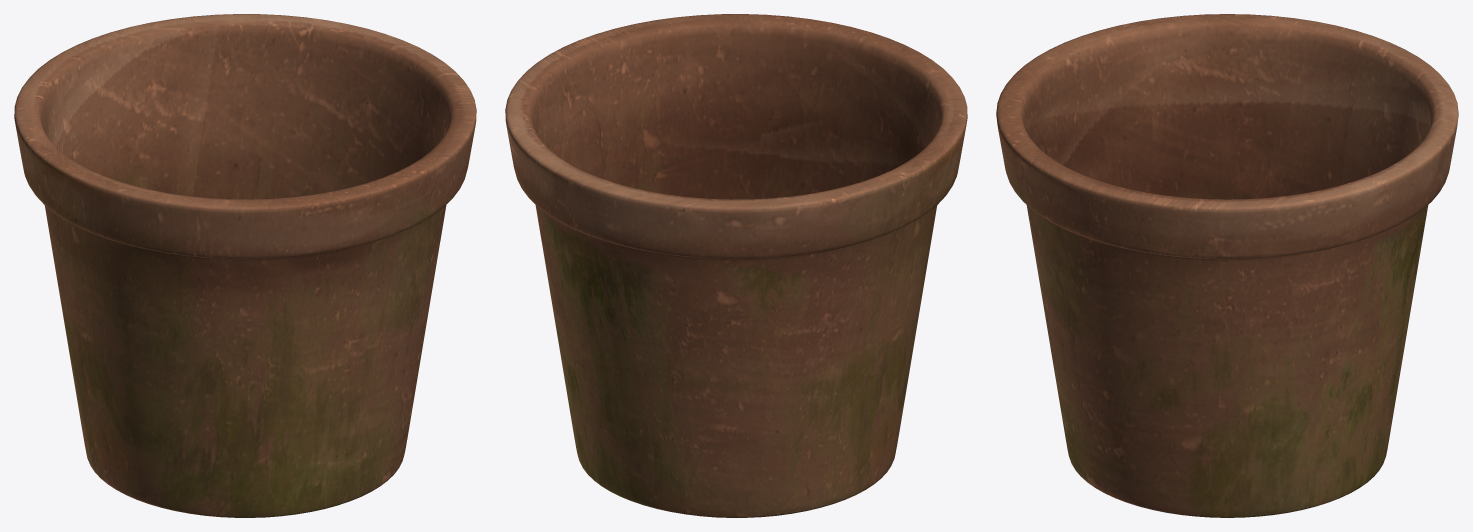
Rendered from Kioypi.fbx.
3 views of the same model, side by side, from view 1: azimuth 30°, elevation 25°; view 2: azimuth 150°, elevation 25°; view 3: azimuth 270°, elevation 25° (orthographic).
Visible parts, largest first — view 1: Cylinder; view 2: Cylinder; view 3: Cylinder.
Boxes of the visible parts, x1=… form: Cylinder: x1=14, y1=14, x2=476, y2=517; Cylinder: x1=505, y1=14, x2=967, y2=517; Cylinder: x1=996, y1=14, x2=1458, y2=517.
Bounding box in the file's own units: 235 × 191 × 235.
Materials: 1 (1 with a texture image).
